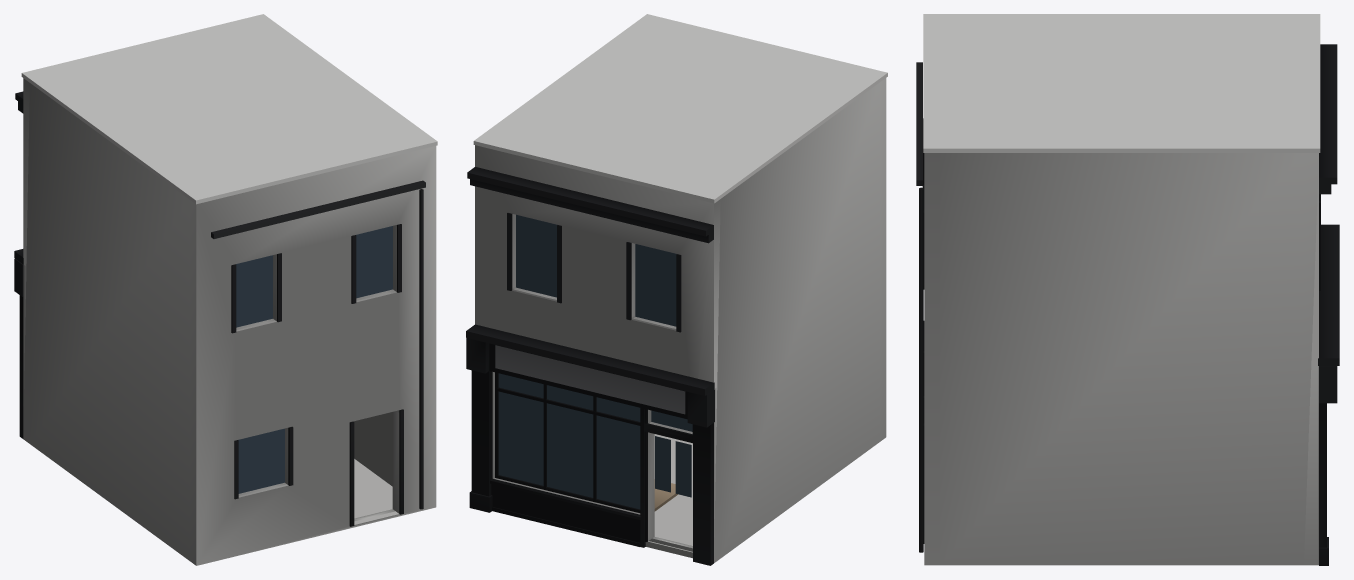
The model's file is barber-shop_lod1.glb.
The picture shows the model from 3 angles, left to right: view 1: azimuth 30°, elevation 25°; view 2: azimuth 150°, elevation 25°; view 3: azimuth 270°, elevation 25°; orthographic projection. The views are drawn at different scales.
Visible parts, largest first — view 1: barber-shop_lod1; view 2: barber-shop_lod1; view 3: barber-shop_lod1.
Boxes of the visible parts, <box> form: barber-shop_lod1: <box>14,14,437,565</box>; barber-shop_lod1: <box>466,14,887,565</box>; barber-shop_lod1: <box>916,14,1339,565</box>.
Bounding box in the file's own units: 5.25 × 7.58 × 6.98.
